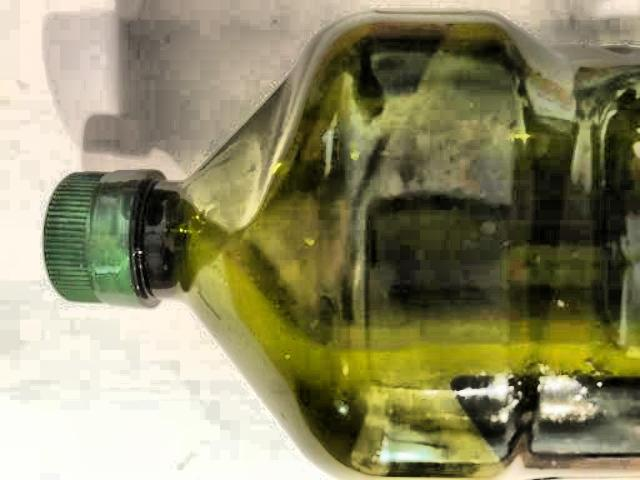Plastic: (9, 2, 640, 480)
